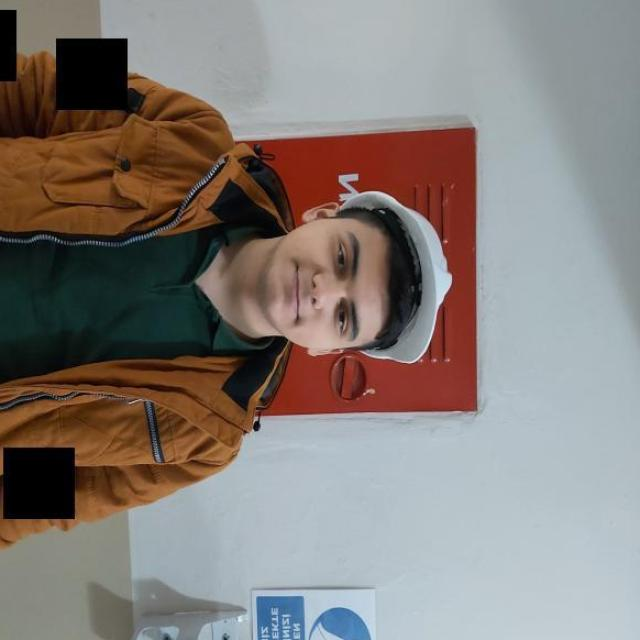helmet: (335, 189, 453, 364)
